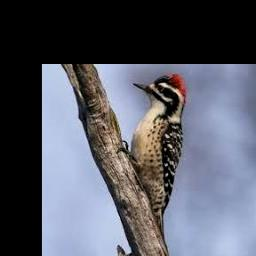Woodpecker: (117, 74, 188, 237)
